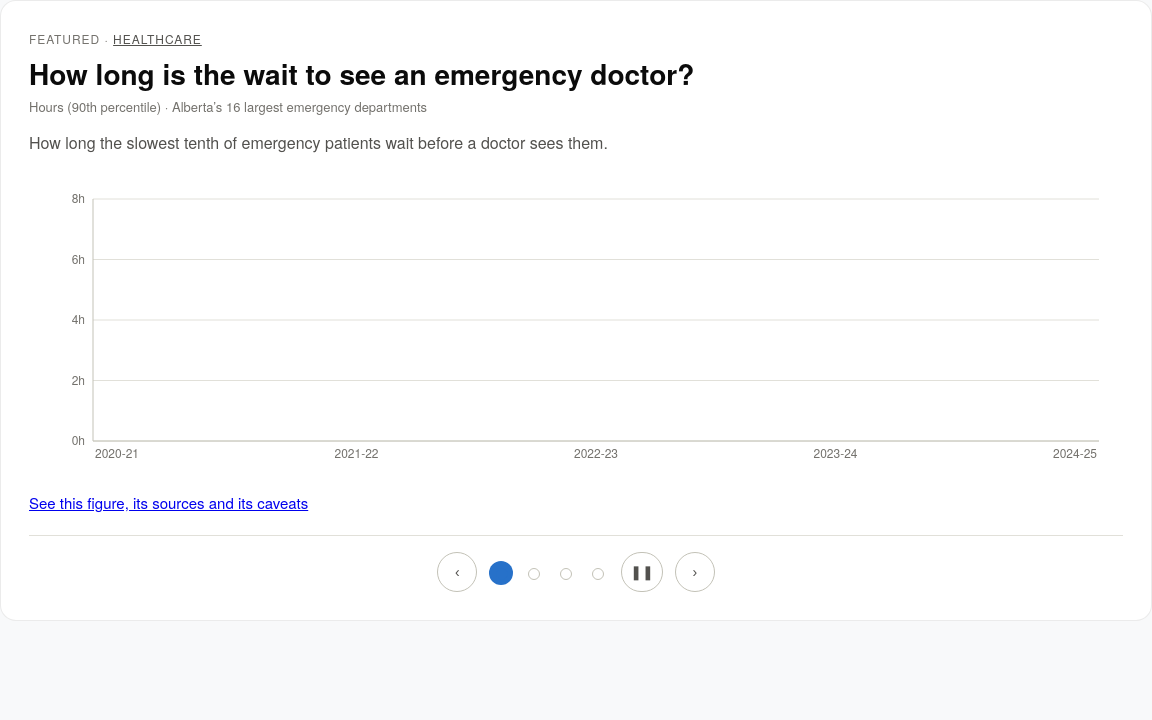
Test: the controls › step forwards and backwards
The image size is (1152, 720).
Click the button named "Next featured figure" at coordinates (695, 572), box [675,552,715,592]
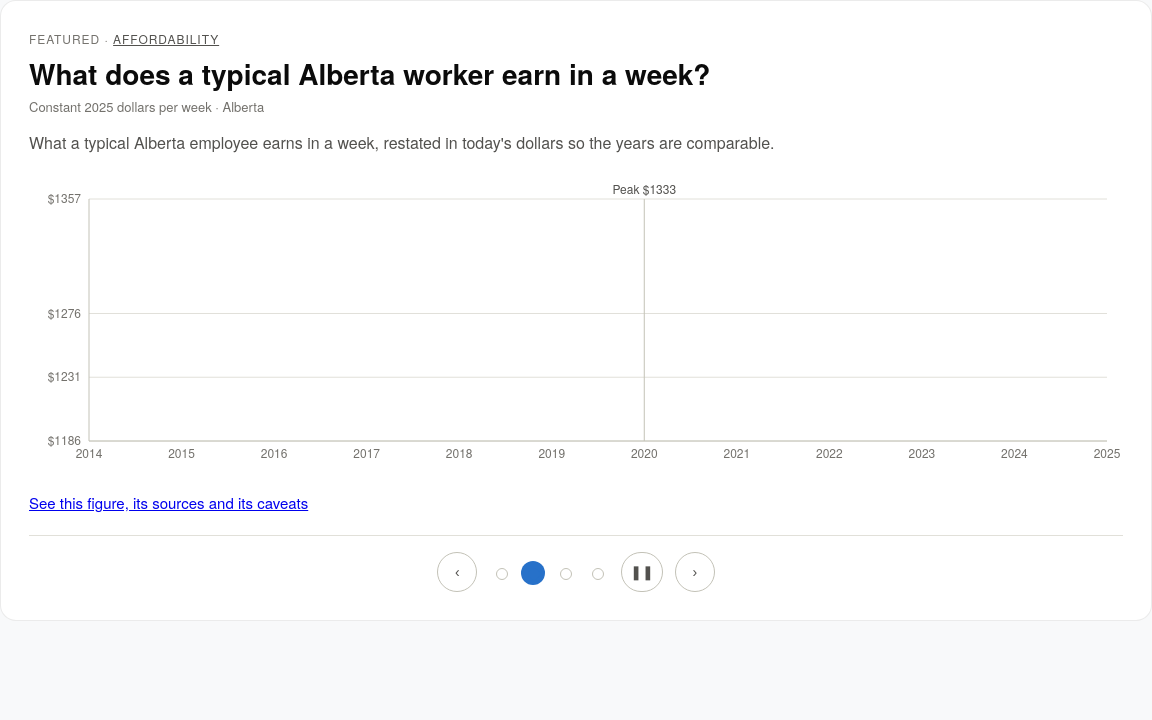
Click the button named "Previous featured figure" at coordinates (457, 572), box [437,552,477,592]
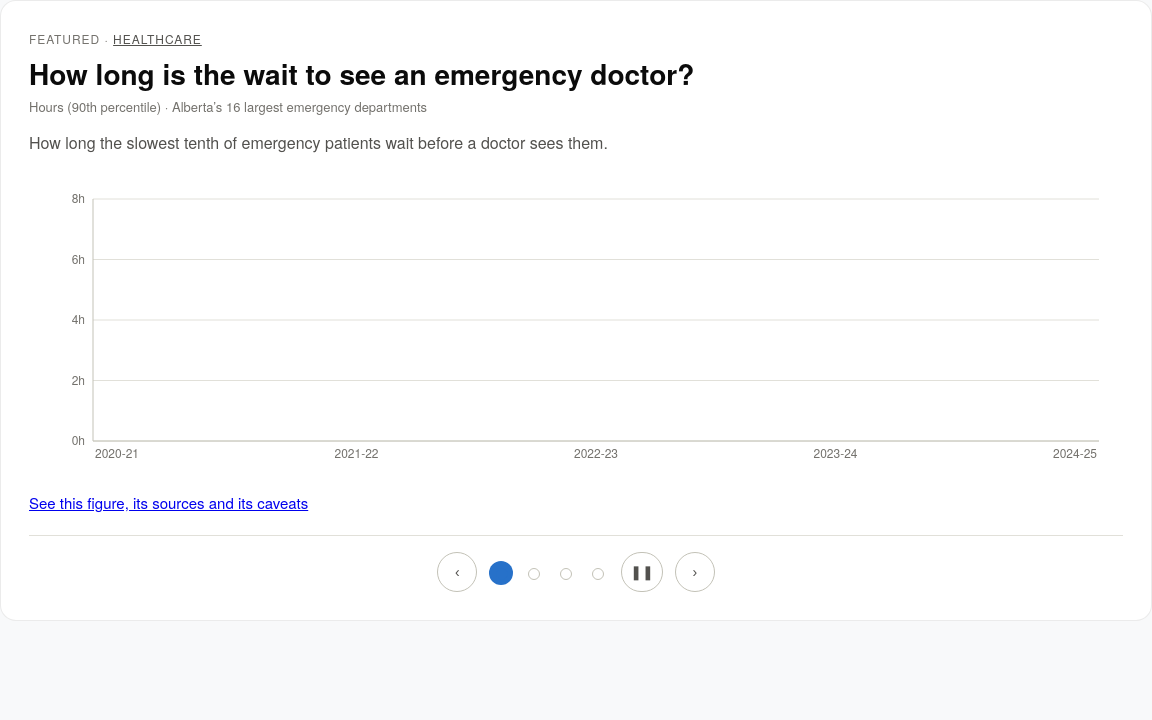
Now the link "How long is the wait to see an emergency doctor?" is shown, box [29,53,694,94]
